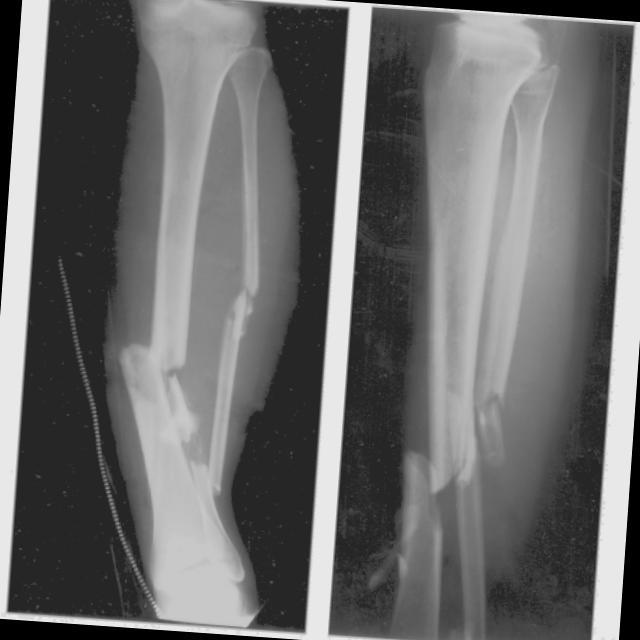Comminuted Fracture: (103, 300, 197, 399), (456, 349, 514, 481), (212, 252, 272, 344), (392, 416, 453, 506), (181, 449, 248, 505)
